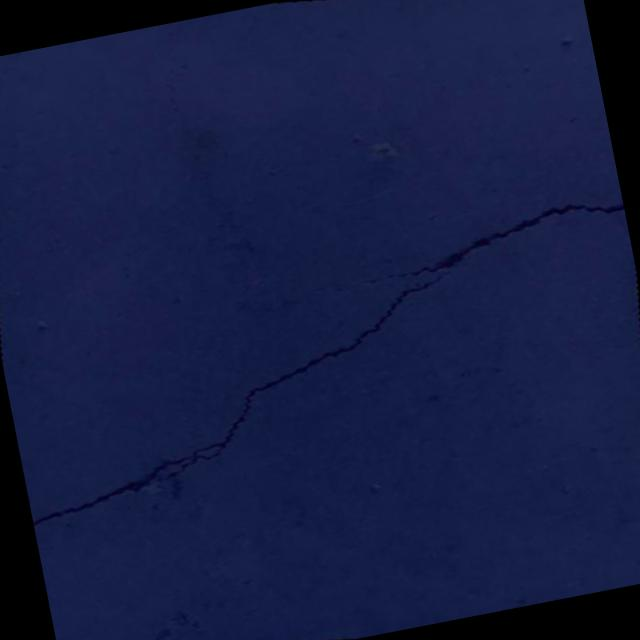crack: (0, 120, 640, 605)
